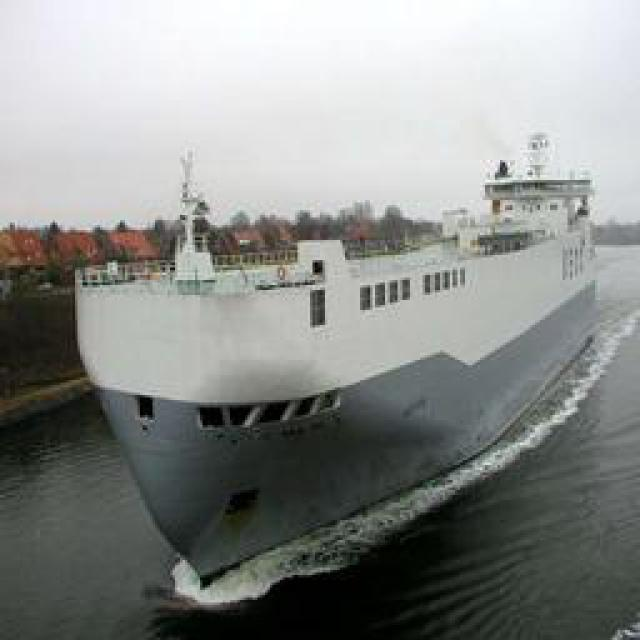Ship: (61, 132, 621, 620)
